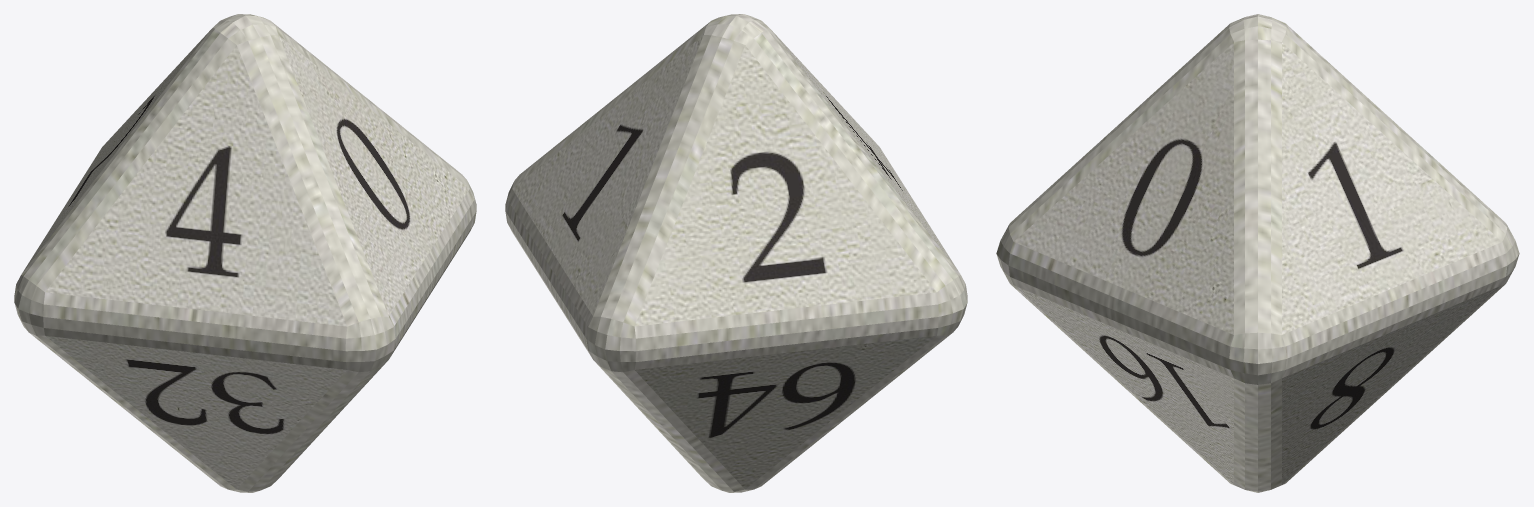
The model's file is die_eightside.fbx.
3 views of the same model, side by side, from view 1: azimuth 30°, elevation 25°; view 2: azimuth 150°, elevation 25°; view 3: azimuth 270°, elevation 25° (orthographic).
Visible parts, largest first — view 1: EightSideDie; view 2: EightSideDie; view 3: EightSideDie.
Boxes of the visible parts, x1,y1,x2,y2 form: EightSideDie: (14,14,476,492); EightSideDie: (505,14,967,492); EightSideDie: (996,14,1519,492).
Bounding box in the file's own units: 4.48 × 4.48 × 4.48.
Materials: 1 (1 with a texture image).
